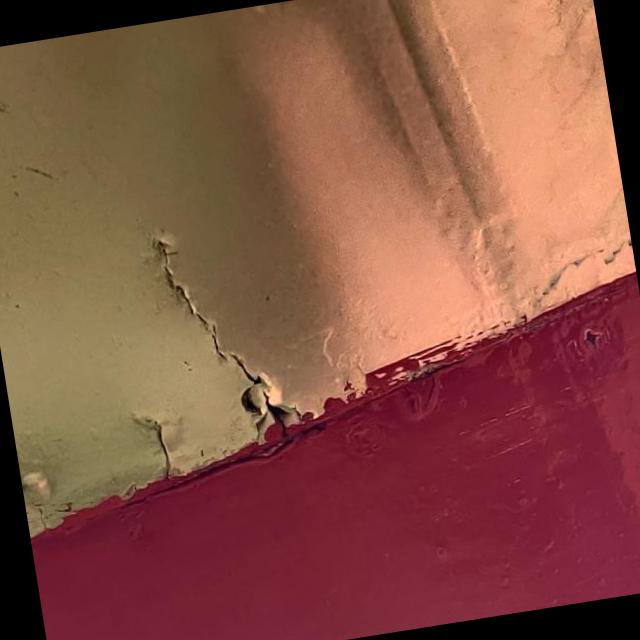Crack: (152, 234, 305, 444), (156, 420, 252, 475), (130, 413, 199, 477)
